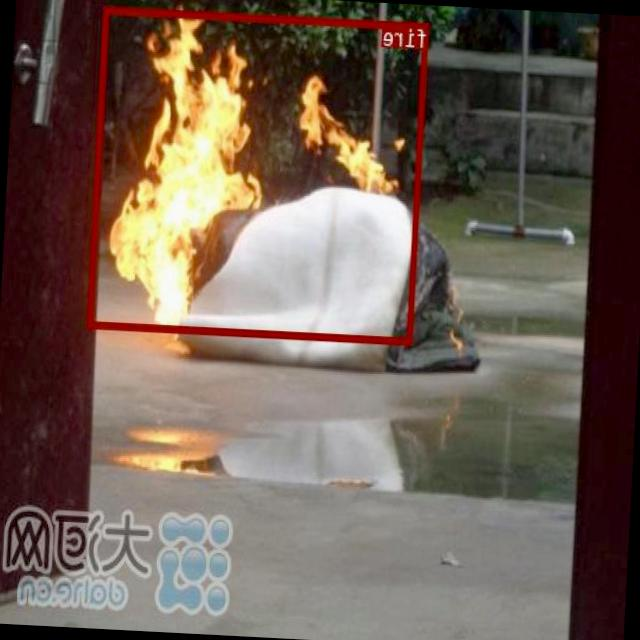fire: (88, 4, 429, 343)
